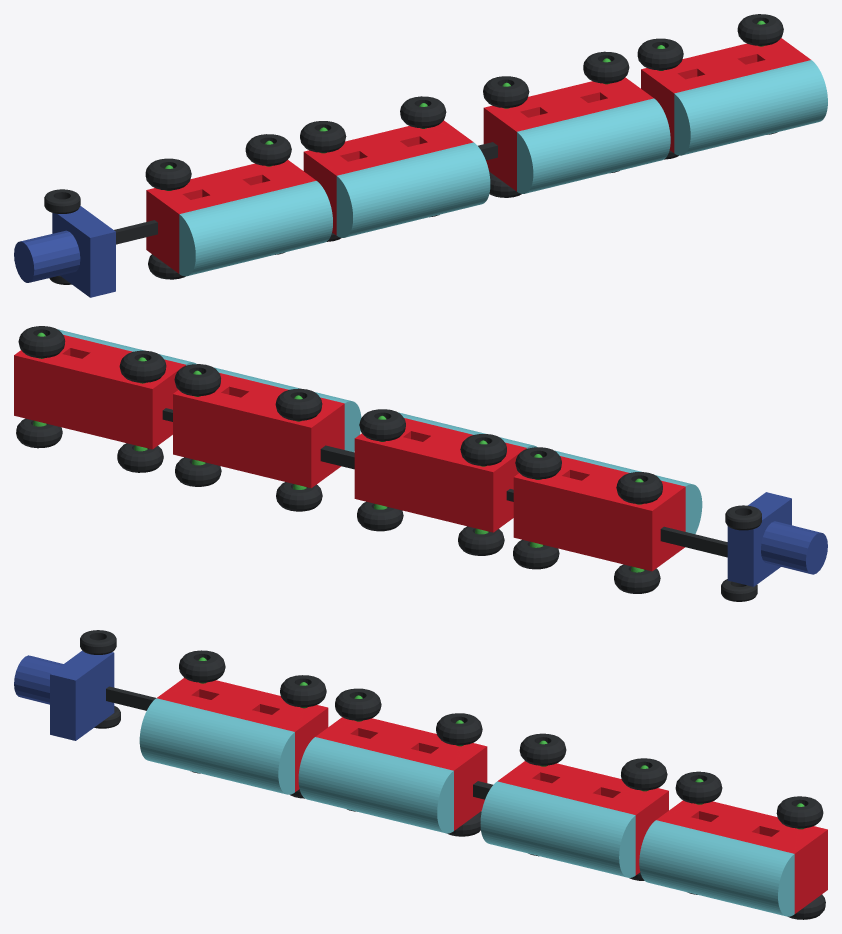
Rendered from tinker.obj.
The picture shows the model from 3 angles, top to bottom: view 1: azimuth 30°, elevation 25°; view 2: azimuth 150°, elevation 25°; view 3: azimuth 330°, elevation 25°; orthographic projection.
Visible parts, largest first — view 1: group_0_7720667, group_0_15277357, group_0_2829873, group_0_3888547; view 2: group_0_15277357, group_0_2829873, group_0_3888547, group_0_7720667, group_0_4634441; view 3: group_0_7720667, group_0_15277357, group_0_2829873, group_0_3888547.
Part boxes in pixels (bbox=[...]): group_0_7720667: bbox=[179, 60, 827, 276]; group_0_15277357: bbox=[146, 38, 810, 273]; group_0_2829873: bbox=[44, 14, 783, 284]; group_0_3888547: bbox=[14, 206, 115, 297]; group_0_15277357: bbox=[14, 334, 685, 571]; group_0_2829873: bbox=[16, 326, 761, 601]; group_0_3888547: bbox=[727, 492, 827, 586]; group_0_7720667: bbox=[57, 329, 702, 533]; group_0_4634441: bbox=[33, 332, 644, 572]; group_0_7720667: bbox=[139, 698, 794, 916]; group_0_15277357: bbox=[156, 678, 827, 913]; group_0_2829873: bbox=[80, 630, 825, 919]; group_0_3888547: bbox=[14, 650, 114, 740].
Size of the model in its own units: 271 by 36 by 34.
